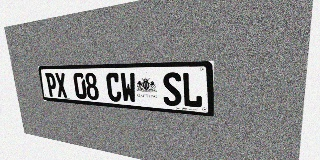0: (73, 73, 87, 99)
8: (84, 73, 99, 100)
C: (106, 72, 122, 102)
L: (182, 72, 203, 108)
P: (45, 73, 58, 97)
S: (162, 72, 182, 107)
W: (120, 72, 137, 103)
X: (54, 73, 68, 98)
